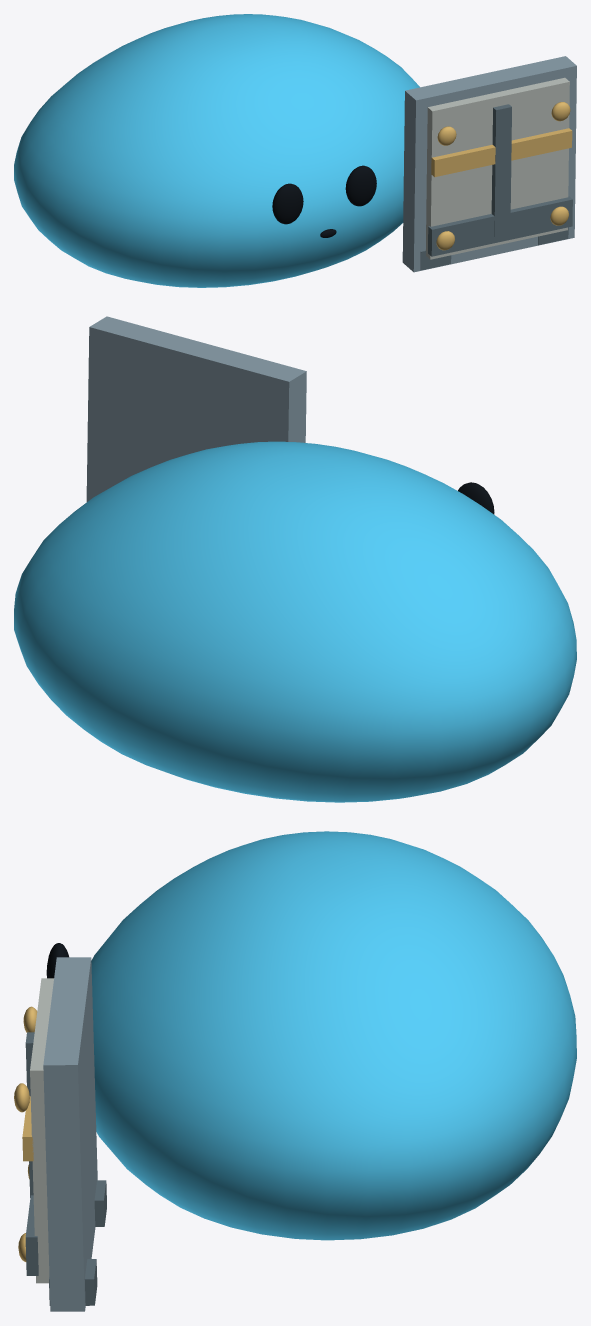
Rendered from fortress-slime.glb.
3 renders of one model, top to bottom at view 1: azimuth 30°, elevation 25°; view 2: azimuth 150°, elevation 25°; view 3: azimuth 270°, elevation 25°, orthographic. The views are drawn at different scales.
Parts seen in each view (by area): view 1: Body, FortressShield_FacePanel, FortressShield_Core, FortressShield_LowerBand, FortressShield_Crossbar, FortressShield_Spine, Eye_L, Eye_R, FortressShield_Foot_L; view 2: Body, FortressShield_Core; view 3: Body, FortressShield_Core, FortressShield_FacePanel, FortressShield_LowerBand.
Boxes of the visible parts, x1=… form: Body: x1=14, y1=14, x2=419, y2=287; FortressShield_FacePanel: x1=425, y1=77, x2=569, y2=259; FortressShield_Core: x1=402, y1=56, x2=576, y2=272; FortressShield_LowerBand: x1=428, y1=196, x2=572, y2=256; FortressShield_Crossbar: x1=431, y1=128, x2=572, y2=177; FortressShield_Spine: x1=491, y1=104, x2=511, y2=238; Eye_L: x1=272, y1=183, x2=303, y2=224; Eye_R: x1=345, y1=165, x2=376, y2=206; FortressShield_Foot_L: x1=420, y1=250, x2=451, y2=270; Body: x1=14, y1=441, x2=576, y2=802; FortressShield_Core: x1=86, y1=316, x2=306, y2=501; Body: x1=91, y1=831, x2=576, y2=1240; FortressShield_Core: x1=43, y1=957, x2=97, y2=1311; FortressShield_FacePanel: x1=30, y1=978, x2=53, y2=1283; FortressShield_LowerBand: x1=25, y1=1195, x2=38, y2=1275.
Bounding box in the file's own units: 2.69 × 1.18 × 2.11.
